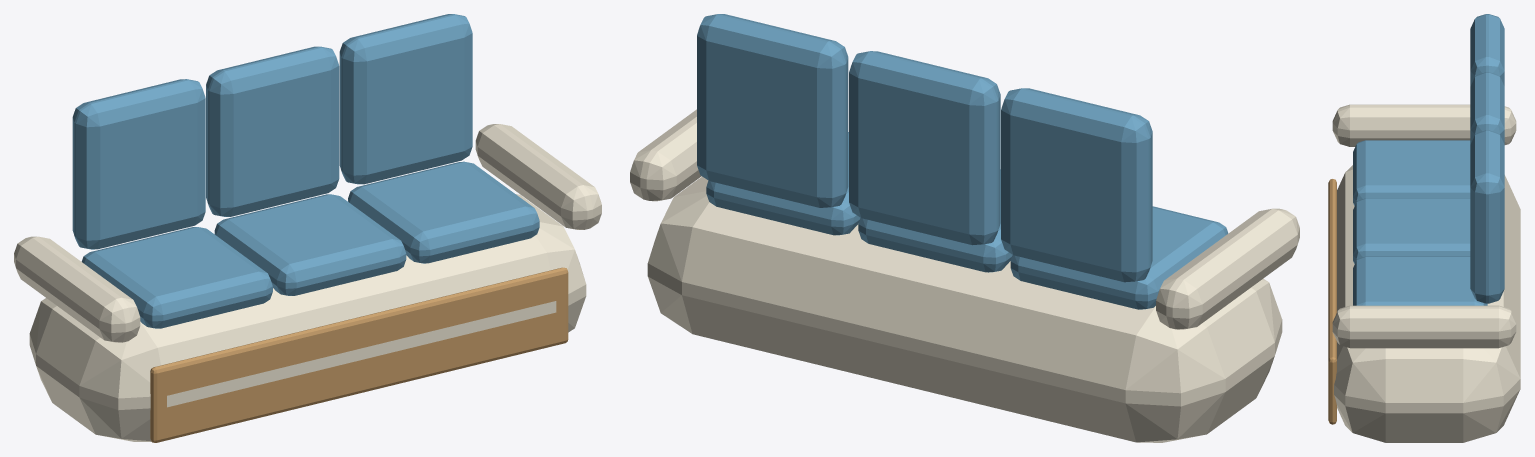
Rendered from lobby_T3_sculpted_bench.glb.
3 views of the same model, side by side, from view 1: azimuth 30°, elevation 25°; view 2: azimuth 150°, elevation 25°; view 3: azimuth 270°, elevation 25° (orthographic). The views are drawn at different scales.
Parts seen in each view (by area): view 1: lobby_T3_sculpted_bench__Static_Assembly; view 2: lobby_T3_sculpted_bench__Static_Assembly; view 3: lobby_T3_sculpted_bench__Static_Assembly.
Boxes of the visible parts, x1=… form: lobby_T3_sculpted_bench__Static_Assembly: x1=14, y1=14, x2=601, y2=442; lobby_T3_sculpted_bench__Static_Assembly: x1=630, y1=14, x2=1299, y2=442; lobby_T3_sculpted_bench__Static_Assembly: x1=1328, y1=14, x2=1520, y2=442.
Bounding box in the file's own units: 1.8 × 1.01 × 0.67.
